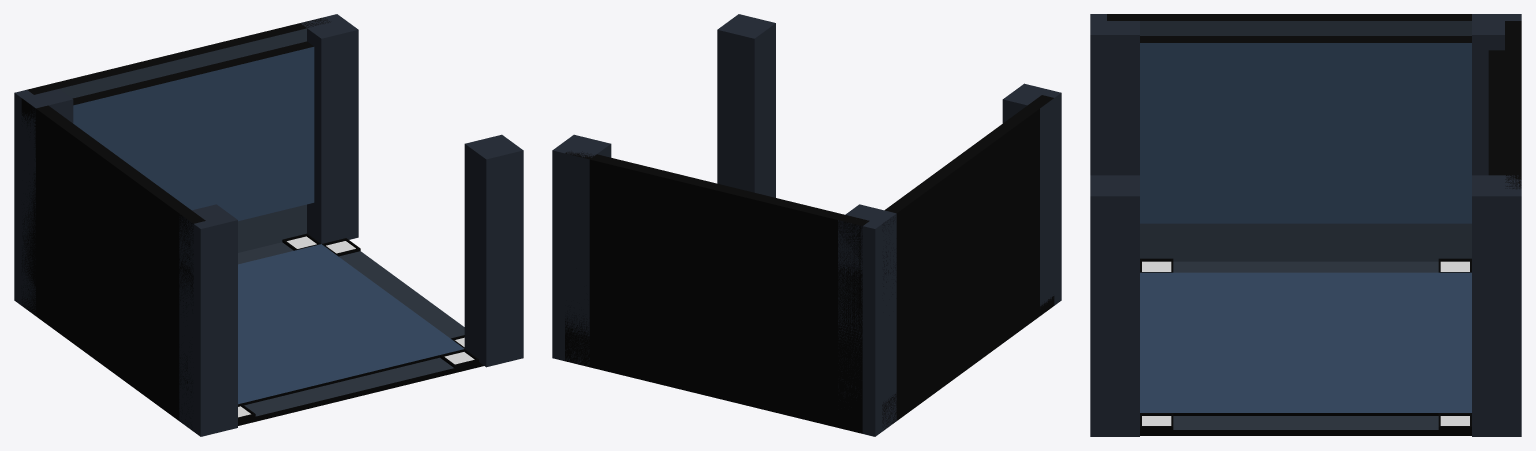
File: HallwayTurnSection.fbx
The picture shows the model from 3 angles, left to right: view 1: azimuth 30°, elevation 25°; view 2: azimuth 150°, elevation 25°; view 3: azimuth 270°, elevation 25°; orthographic projection. The views are drawn at different scales.
Visible parts, largest first — view 1: HallwayWallStraight.000, HallwayWallStraight.002, HallwayFloorIntersection, HallwaySupport.004, HallwaySupport, HallwaySupport.003, HallwaySupport.002; view 2: HallwayWallStraight.000, HallwayWallStraight.002, HallwaySupport.002, HallwaySupport.004, HallwaySupport.003, HallwaySupport; view 3: HallwayWallStraight.002, HallwayFloorIntersection, HallwaySupport.004, HallwaySupport.003, HallwaySupport, HallwayWallStraight.000, HallwaySupport.002.
Boxes of the visible parts, x1,y1,x2,y2 form: HallwayWallStraight.000: (27, 18, 330, 252); HallwayWallStraight.002: (21, 98, 205, 429); HallwayFloorIntersection: (238, 233, 483, 425); HallwaySupport.004: (464, 134, 523, 367); HallwaySupport: (179, 204, 237, 436); HallwaySupport.003: (300, 14, 358, 243); HallwaySupport.002: (14, 89, 73, 314); HallwayWallStraight.000: (565, 151, 869, 433); HallwayWallStraight.002: (882, 95, 1054, 429); HallwaySupport.002: (838, 204, 896, 436); HallwaySupport.004: (717, 14, 775, 197); HallwaySupport.003: (552, 134, 611, 365); HallwaySupport: (1002, 83, 1061, 306); HallwayWallStraight.002: (1107, 14, 1471, 261); HallwayFloorIntersection: (1140, 258, 1471, 435); HallwaySupport.004: (1090, 175, 1139, 436); HallwaySupport.003: (1472, 175, 1521, 436); HallwaySupport: (1090, 14, 1139, 175); HallwayWallStraight.000: (1488, 21, 1521, 189); HallwaySupport.002: (1472, 14, 1521, 175).
Bounding box in the file's own units: 650 × 410 × 650.
